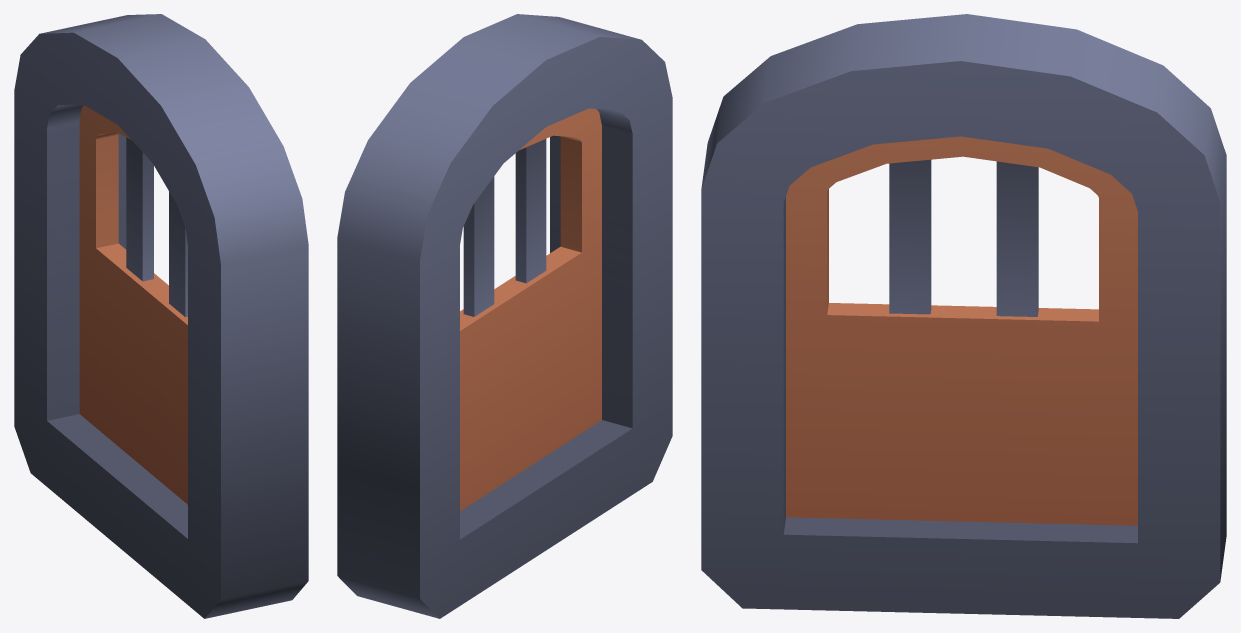
The model's file is door.002_lev2.glb.
3 views of the same model, side by side, from view 1: azimuth 30°, elevation 25°; view 2: azimuth 150°, elevation 25°; view 3: azimuth 270°, elevation 25° (orthographic). The views are drawn at different scales.
Visible parts, largest first — view 1: door.002_lev2; view 2: door.002_lev2; view 3: door.002_lev2.
Part boxes in pixels (box(x1,y1,x2,y2)): door.002_lev2: box(14, 14, 308, 618); door.002_lev2: box(337, 14, 672, 618); door.002_lev2: box(701, 14, 1226, 618).
Bounding box in the file's own units: 1.36 × 5.91 × 5.09.
Materials: 1 (1 with a texture image).
